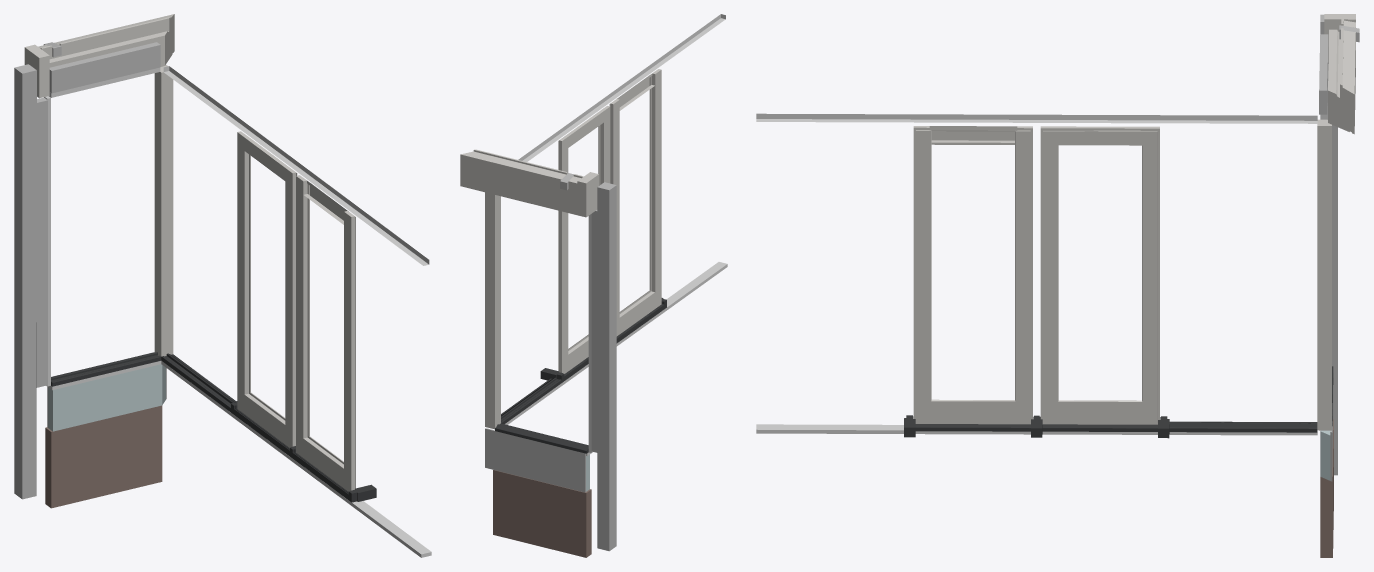
The picture shows the model from 3 angles, left to right: view 1: azimuth 30°, elevation 25°; view 2: azimuth 150°, elevation 25°; view 3: azimuth 270°, elevation 25°; orthographic projection. The views are drawn at different scales.
Size of the model in its own units: 1.61 by 4.15 by 4.71.
